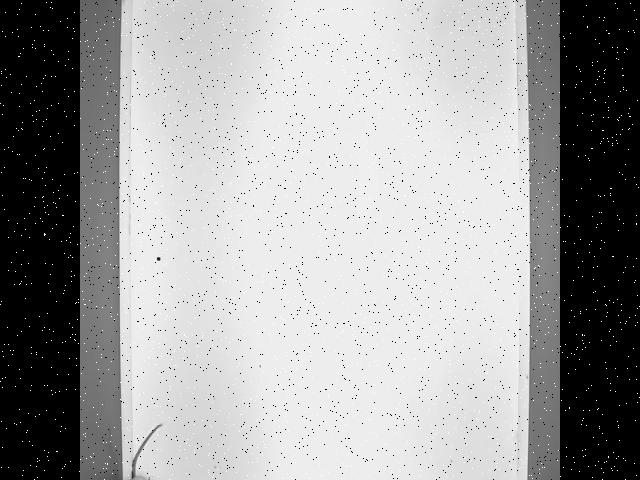Tikus: (118, 418, 168, 480)
